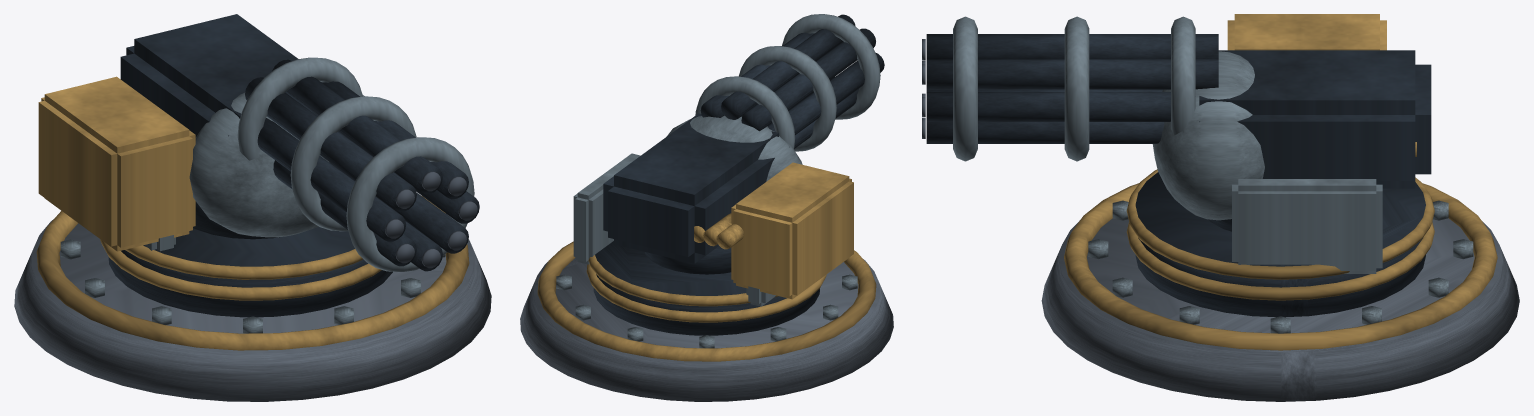
The model's file is tower_gun_2.glb.
3 views of the same model, side by side, from view 1: azimuth 30°, elevation 25°; view 2: azimuth 150°, elevation 25°; view 3: azimuth 270°, elevation 25° (orthographic). The views are drawn at different scales.
Parts seen in each view (by area): view 1: Weathered_granite, Forged_black_iron.001, Weathered_blue_steel.001, Antique_brass.001, Antique_brass, Forged_black_iron, Eye_socket, Weathered_blue_steel; view 2: Forged_black_iron.001, Weathered_granite, Antique_brass.001, Antique_brass, Weathered_blue_steel.001, Forged_black_iron, Weathered_blue_steel; view 3: Forged_black_iron.001, Weathered_granite, Antique_brass, Weathered_blue_steel.001, Weathered_blue_steel, Forged_black_iron, Antique_brass.001.
Boxes of the visible parts, x1,y1,x2,y2 form: Weathered_granite: (14,219,491,401); Forged_black_iron.001: (120,14,479,271); Weathered_blue_steel.001: (189,57,474,272); Antique_brass.001: (38,76,195,251); Antique_brass: (36,196,469,350); Forged_black_iron: (108,201,392,317); Eye_socket: (385,171,477,268); Weathered_blue_steel: (60,94,445,333); Forged_black_iron.001: (603,14,884,263); Weathered_granite: (520,258,893,401); Antique_brass.001: (694,162,853,299); Antique_brass: (537,241,876,361); Weathered_blue_steel.001: (666,14,880,181); Forged_black_iron: (593,241,819,335); Weathered_blue_steel: (556,153,857,348); Forged_black_iron.001: (926,34,1431,188); Weathered_granite: (1041,218,1519,401); Antique_brass: (1064,169,1497,350); Weathered_blue_steel.001: (953,16,1264,220); Weathered_blue_steel: (1088,179,1473,333); Forged_black_iron: (1135,172,1425,317); Antique_brass.001: (1227,14,1416,156).
Size of the model in its own units: 2.7 by 1.73 by 3.38.
Materials: 5 (4 with a texture image).
